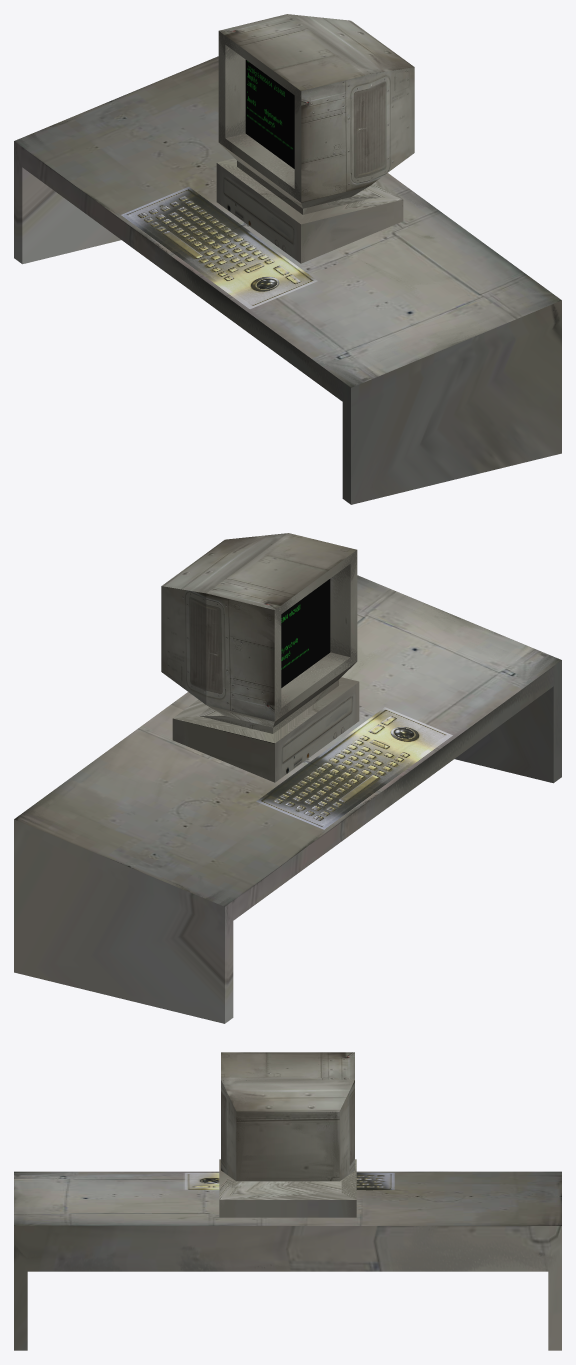
The model's file is computer.fbx.
3 views of the same model, one above another, from view 1: azimuth 30°, elevation 25°; view 2: azimuth 150°, elevation 25°; view 3: azimuth 270°, elevation 25° (orthographic). The views are drawn at different scales.
Visible parts, largest first — view 1: computrer; view 2: computrer; view 3: computrer.
Part boxes in pixels (box(x1,y1,x2,y2)): computrer: box(14, 14, 561, 504); computrer: box(14, 533, 561, 1023); computrer: box(14, 1052, 561, 1350).
Size of the model in its own units: 1.44 by 1.97 by 3.99.
